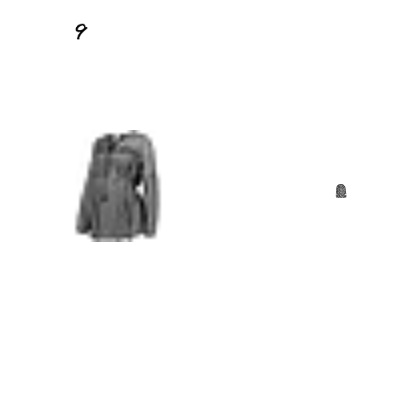1: (305, 295, 333, 323)
3: (145, 181, 201, 237)
9: (91, 231, 133, 273), (6, 272, 48, 314)
Coat: (224, 296, 266, 338)
Sneaker: (161, 53, 217, 109)
